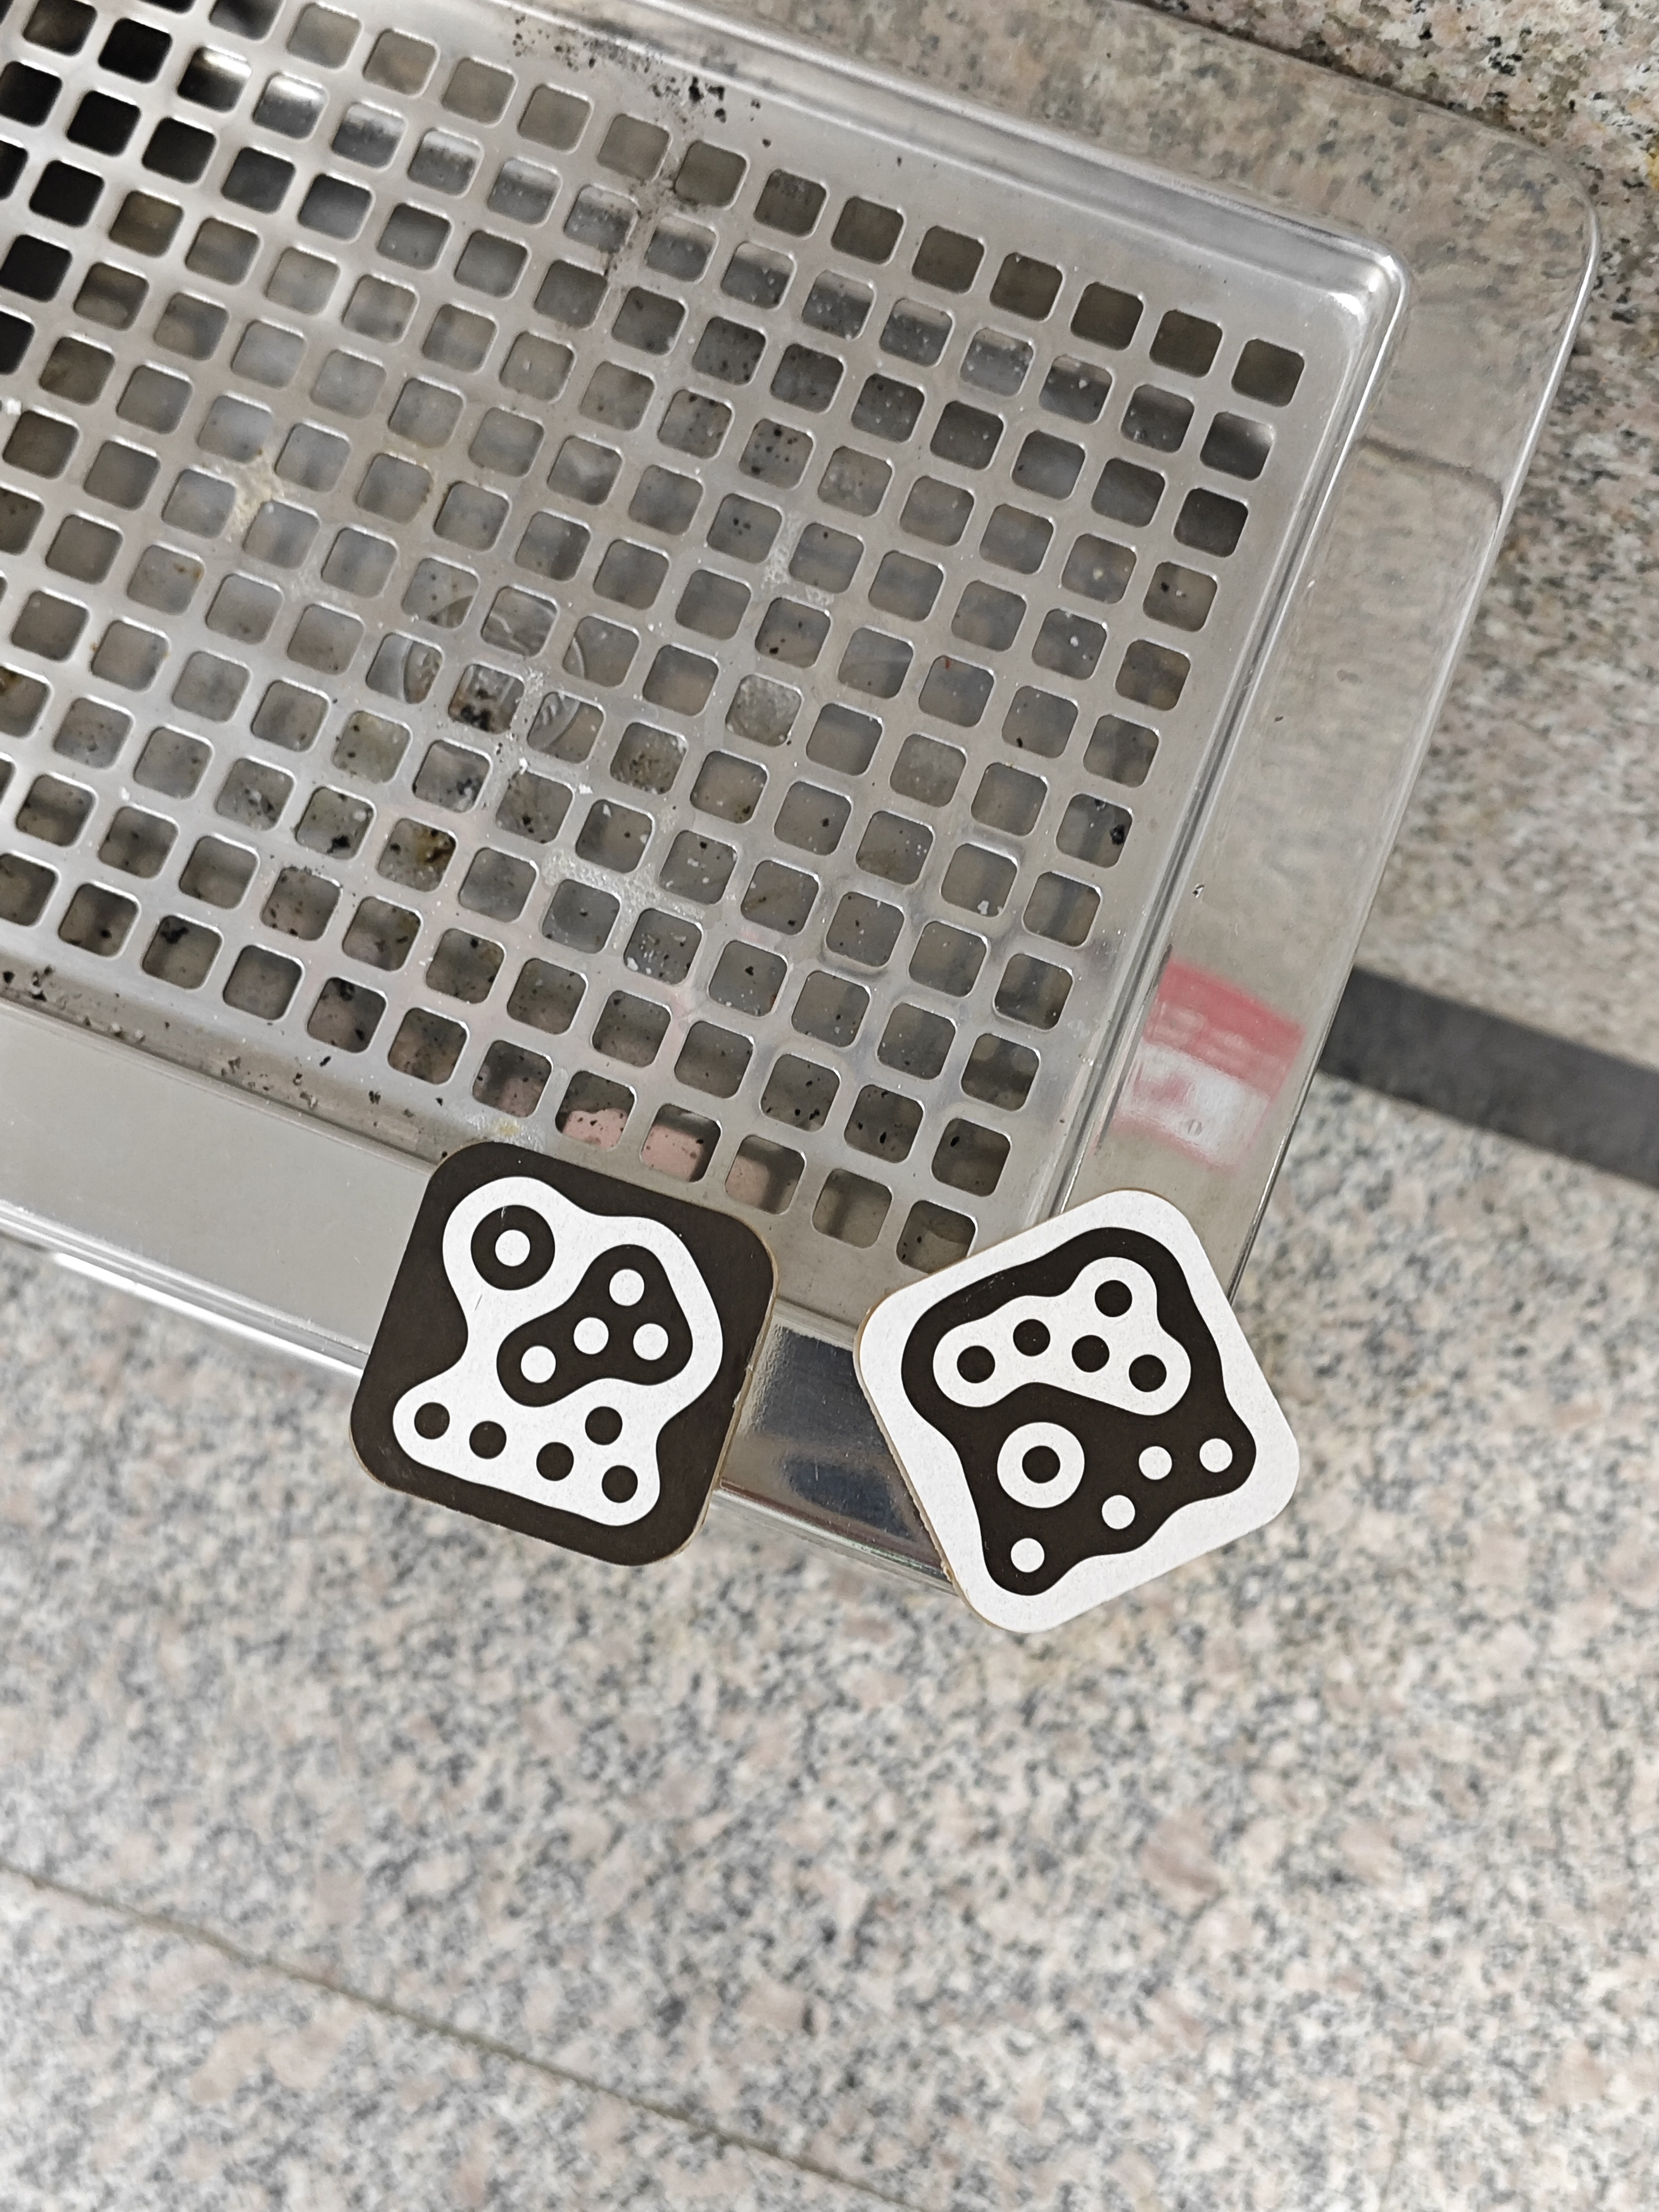mark1: (903, 1226, 1258, 1601)
mark2: (389, 1177, 730, 1529)
